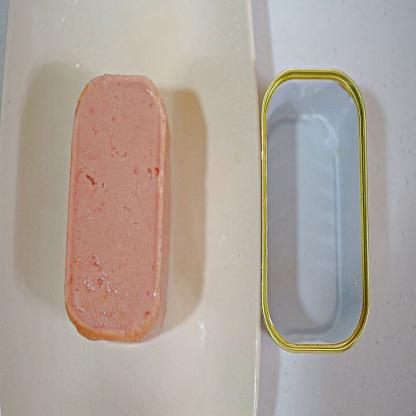spam: (80, 67, 168, 340)
